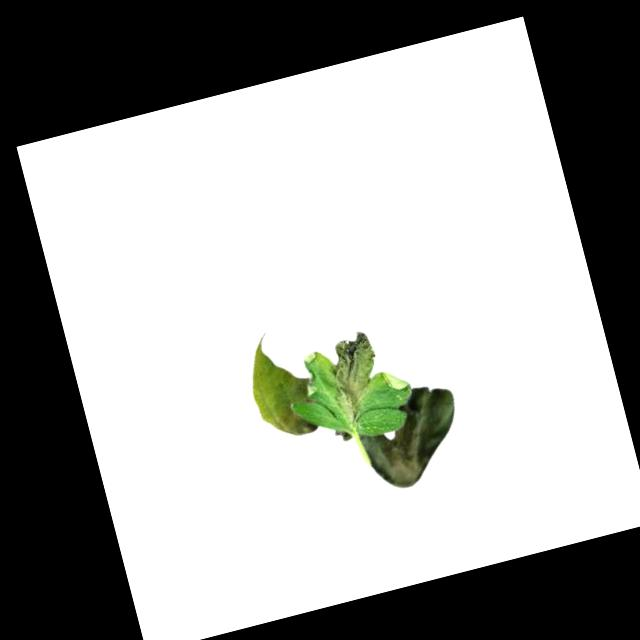Late_blight: (346, 378, 473, 498), (238, 324, 319, 444), (322, 327, 391, 426)
